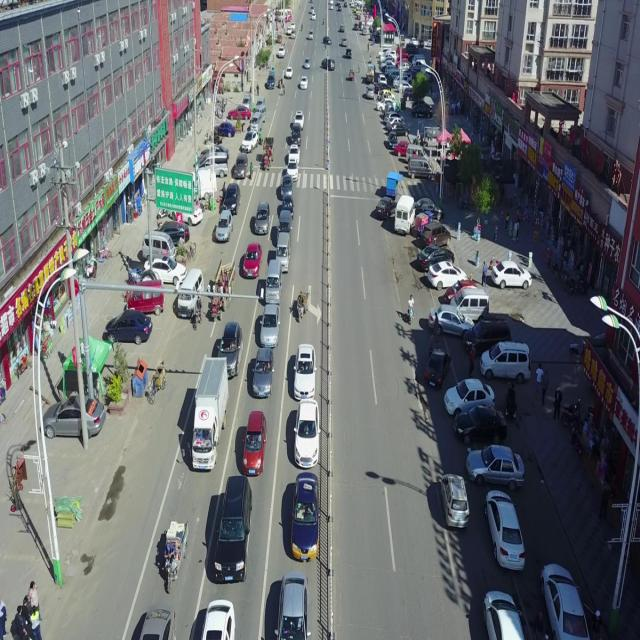car: (39, 391, 105, 439), (290, 472, 320, 562), (273, 572, 311, 639)
person: (534, 361, 544, 400), (407, 294, 414, 324)
tree: (472, 174, 494, 223), (411, 70, 430, 103)
